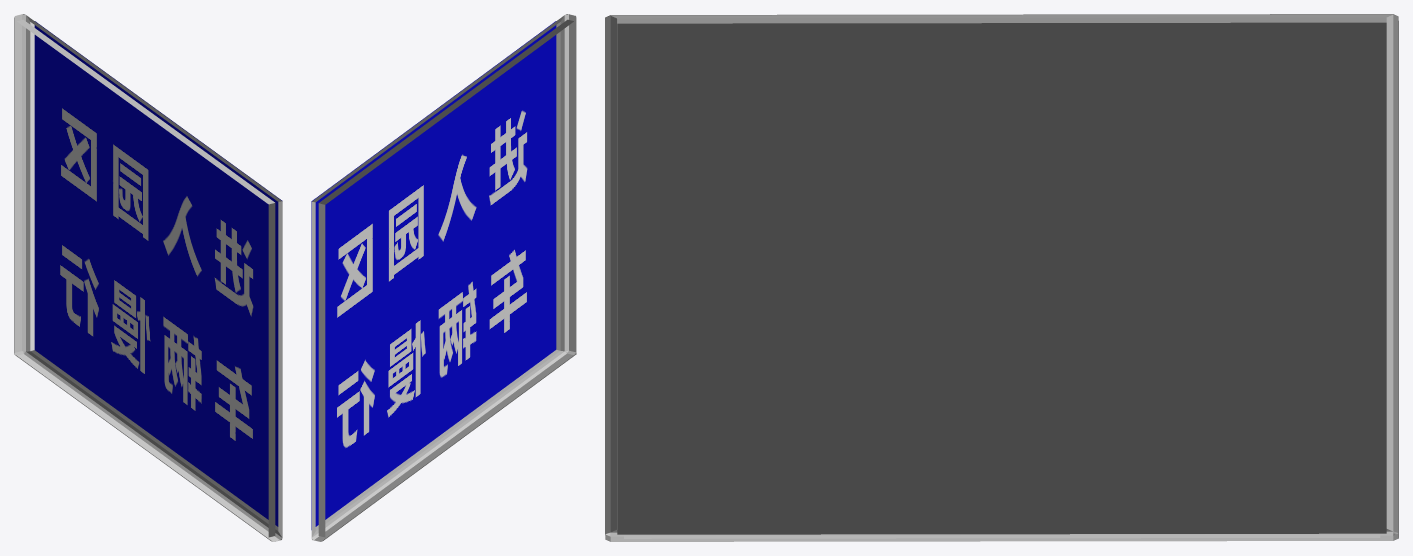
The picture shows the model from 3 angles, left to right: view 1: azimuth 30°, elevation 25°; view 2: azimuth 150°, elevation 25°; view 3: azimuth 270°, elevation 25°; orthographic projection. The views are drawn at different scales.
Visible parts, largest first — view 1: model18; view 2: model18; view 3: model18.
Boxes of the visible parts, x1=… form: model18: x1=14, y1=14, x2=282, y2=541; model18: x1=311, y1=14, x2=576, y2=541; model18: x1=605, y1=14, x2=1398, y2=541.
Bounding box in the file's own units: 0.0927 × 1.72 × 2.38.
2 materials, 1 textured.
